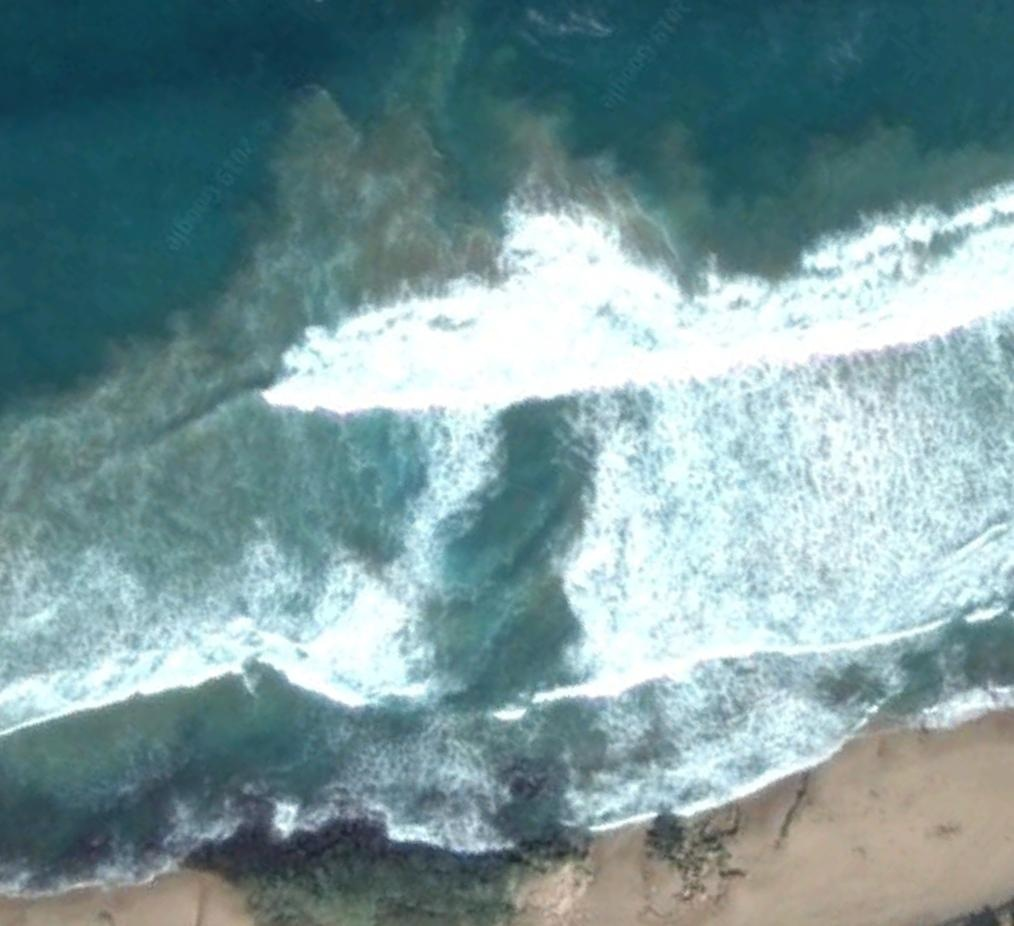rip_current: (404, 72, 629, 714)
